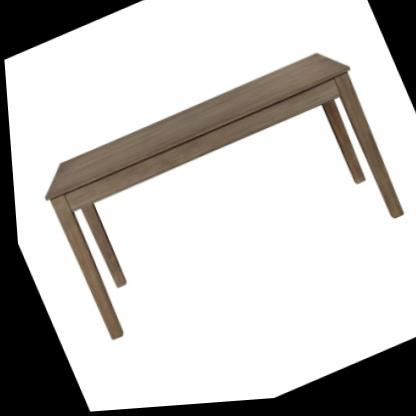Table: (11, 22, 416, 370)
